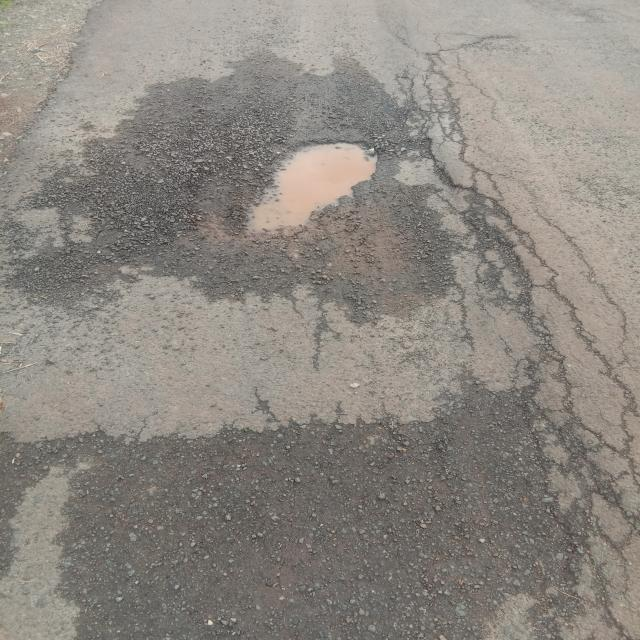potholes: (222, 135, 387, 247)
